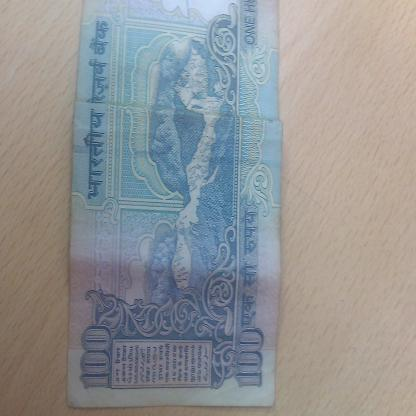Old100Back: (67, 0, 283, 410)
